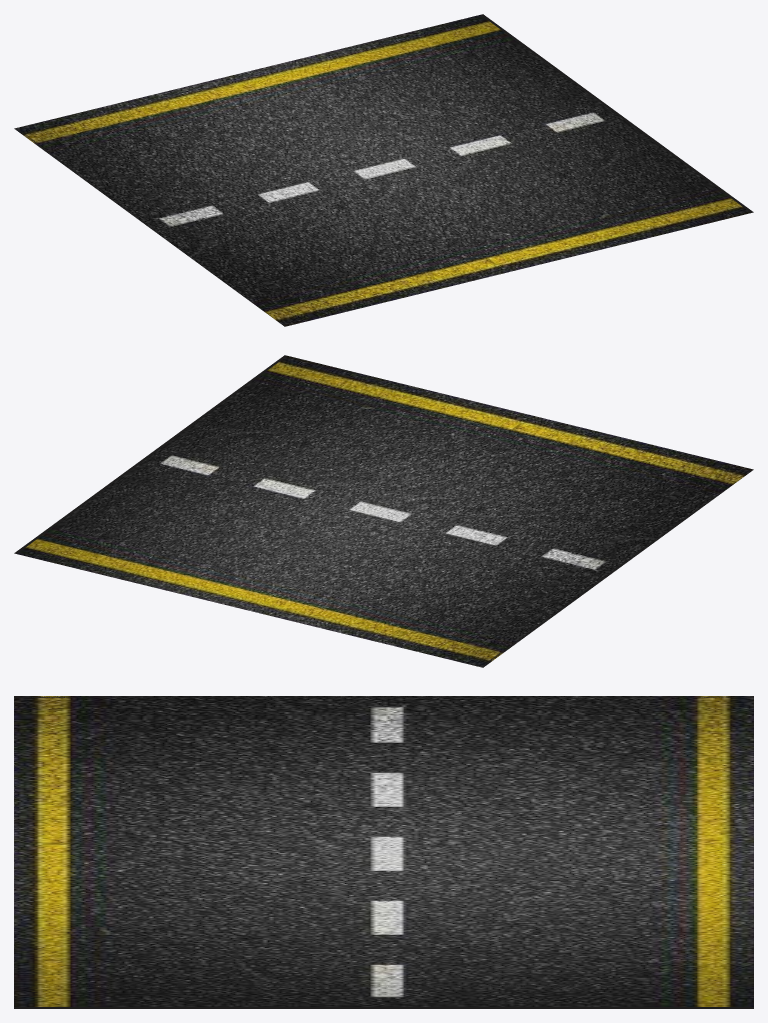
The model's file is Cesta Ravna najnovije.fbx.
The picture shows the model from 3 angles, top to bottom: view 1: azimuth 30°, elevation 25°; view 2: azimuth 150°, elevation 25°; view 3: azimuth 270°, elevation 25°; orthographic projection. The views are drawn at different scales.
Parts seen in each view (by area): view 1: Cesta ravna; view 2: Cesta ravna; view 3: Cesta ravna.
Boxes of the visible parts, x1,y1,x2,y2 form: Cesta ravna: [14, 14, 753, 326]; Cesta ravna: [14, 355, 753, 667]; Cesta ravna: [14, 696, 753, 1008].
Size of the model in its own units: 200 by 0 by 200.
1 material, 1 textured.
